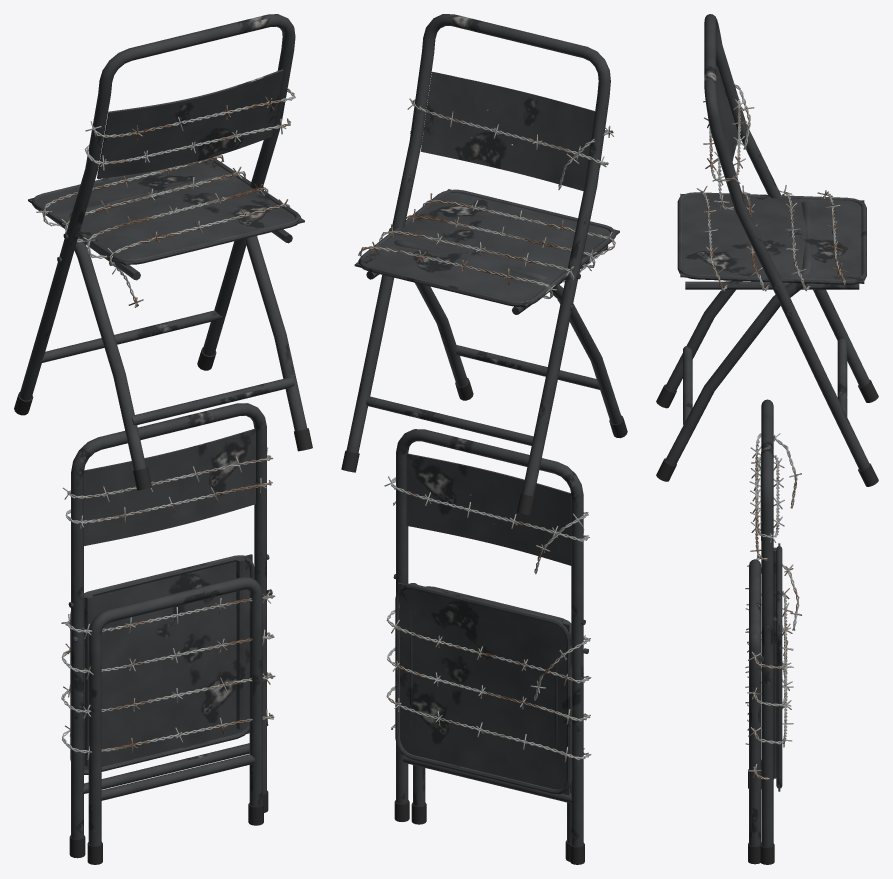
File: barbed_wire_chair.glb
3 views of the same model, side by side, from view 1: azimuth 30°, elevation 25°; view 2: azimuth 150°, elevation 25°; view 3: azimuth 270°, elevation 25° (orthographic). The views are drawn at different scales.
Parts seen in each view (by area): view 1: BarbedWireChair_Folded_panels, BarbedWireChair_Open_panels, BarbedWireChair_Folded_frame, BarbedWireChair_Open_frame, BarbedWireChair_Folded_wire, BarbedWireChair_Open_wire, BarbedWireChair_Open_feet, BarbedWireChair_Folded_feet; view 2: BarbedWireChair_Folded_panels, BarbedWireChair_Open_panels, BarbedWireChair_Open_frame, BarbedWireChair_Folded_frame, BarbedWireChair_Open_wire, BarbedWireChair_Folded_wire, BarbedWireChair_Open_feet, BarbedWireChair_Folded_feet; view 3: BarbedWireChair_Open_frame, BarbedWireChair_Open_panels, BarbedWireChair_Folded_frame, BarbedWireChair_Folded_wire, BarbedWireChair_Open_wire, BarbedWireChair_Folded_panels, BarbedWireChair_Open_feet, BarbedWireChair_Folded_feet.
Boxes of the visible parts, x1,y1,x2,y2 form: BarbedWireChair_Folded_panels: [70, 428, 255, 774]; BarbedWireChair_Open_panels: [28, 69, 304, 265]; BarbedWireChair_Folded_frame: [68, 403, 272, 846]; BarbedWireChair_Open_frame: [19, 14, 307, 470]; BarbedWireChair_Folded_wire: [61, 447, 275, 759]; BarbedWireChair_Open_wire: [36, 88, 295, 307]; BarbedWireChair_Open_feet: [14, 347, 312, 490]; BarbedWireChair_Folded_feet: [69, 790, 268, 864]; BarbedWireChair_Folded_panels: [395, 453, 572, 795]; BarbedWireChair_Open_panels: [354, 71, 619, 307]; BarbedWireChair_Open_frame: [346, 14, 622, 496]; BarbedWireChair_Folded_frame: [393, 429, 588, 846]; BarbedWireChair_Open_wire: [358, 97, 615, 300]; BarbedWireChair_Folded_wire: [384, 476, 591, 762]; BarbedWireChair_Open_feet: [341, 378, 627, 515]; BarbedWireChair_Folded_feet: [394, 800, 584, 864]; BarbedWireChair_Open_frame: [665, 14, 869, 470]; BarbedWireChair_Open_panels: [677, 66, 866, 284]; BarbedWireChair_Folded_frame: [749, 399, 776, 847]; BarbedWireChair_Folded_wire: [745, 433, 801, 780]; BarbedWireChair_Open_wire: [696, 83, 846, 291]; BarbedWireChair_Folded_panels: [760, 452, 782, 791]; BarbedWireChair_Open_feet: [656, 380, 878, 486]; BarbedWireChair_Folded_feet: [748, 760, 774, 864].
Size of the model in its own units: 0.4753 by 1.77 by 0.4606.
Materials: 4 (3 with a texture image).
